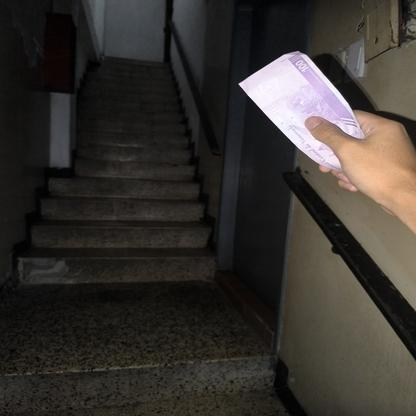one_hundred-back-vef: (237, 50, 366, 174)
